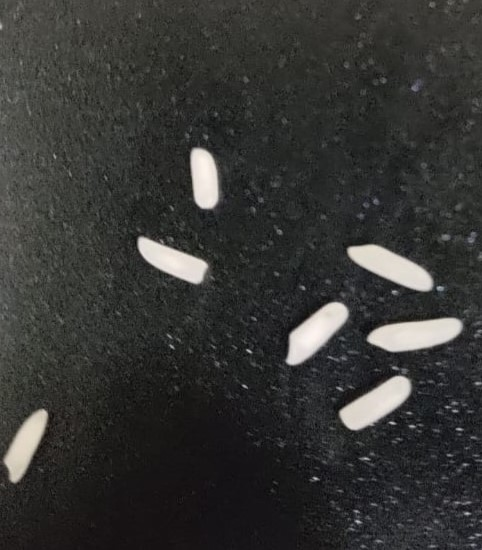broken_grain: (3, 407, 53, 487), (135, 237, 210, 289)
complete_grain: (343, 242, 439, 296), (284, 296, 351, 373), (336, 373, 416, 435), (364, 315, 465, 354), (186, 144, 225, 211)
